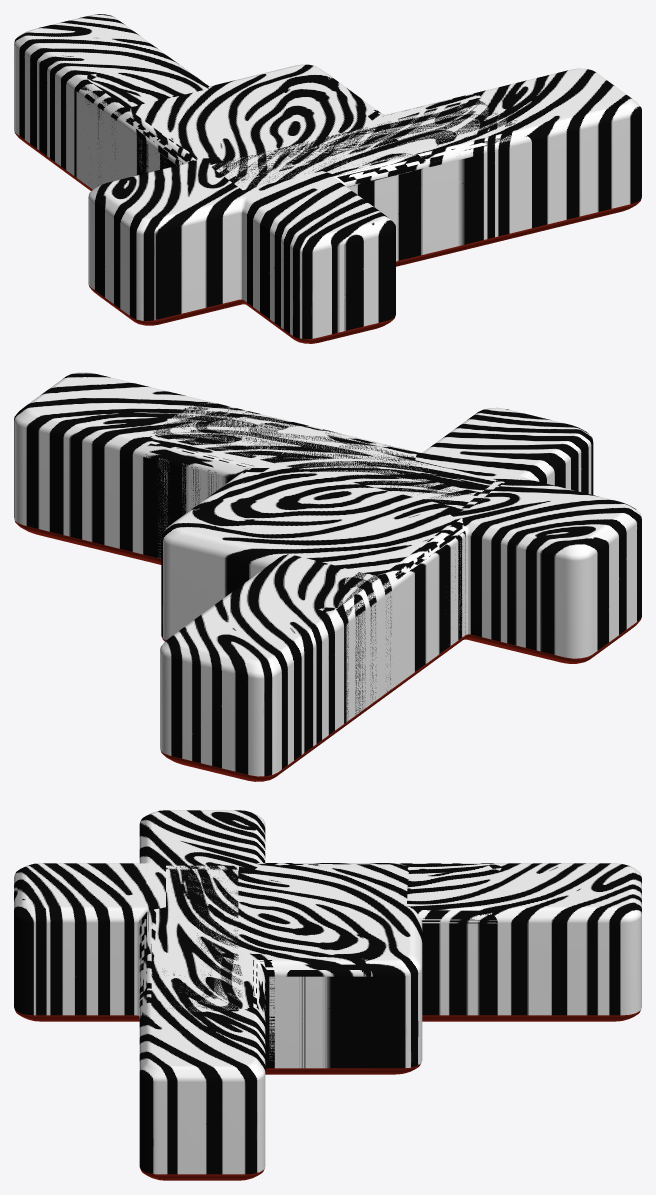
The model's file is Red.fbx.
The picture shows the model from 3 angles, top to bottom: view 1: azimuth 30°, elevation 25°; view 2: azimuth 150°, elevation 25°; view 3: azimuth 270°, elevation 25°; orthographic projection. The views are drawn at different scales.
Parts seen in each view (by area): view 1: Block_6, Block_4, Block_1, Block_9, Block_3, Block_5, Block_7, Block_8, Block_2; view 2: Block_6, Block_9, Block_4, Block_1, Block_3, Block_8, Block_7, Block_5; view 3: Block_4, Block_1, Block_6, Block_9, Block_7, Block_5, Block_3, Block_8.
Part boxes in pixels (bbox=[...]): Block_6: bbox=[88, 121, 427, 343]; Block_4: bbox=[209, 68, 641, 264]; Block_1: bbox=[122, 64, 398, 180]; Block_9: bbox=[14, 14, 208, 190]; Block_3: bbox=[209, 94, 531, 264]; Block_5: bbox=[227, 77, 528, 264]; Block_7: bbox=[74, 67, 425, 266]; Block_8: bbox=[118, 106, 382, 179]; Block_2: bbox=[344, 162, 430, 265]; Block_6: bbox=[323, 407, 641, 675]; Block_9: bbox=[160, 525, 463, 781]; Block_4: bbox=[14, 372, 504, 561]; Block_1: bbox=[161, 444, 476, 641]; Block_3: bbox=[139, 401, 502, 564]; Block_8: bbox=[240, 466, 465, 690]; Block_7: bbox=[252, 532, 465, 723]; Block_5: bbox=[139, 406, 500, 564]; Block_4: bbox=[139, 866, 265, 1180]; Block_1: bbox=[188, 864, 422, 1074]; Block_6: bbox=[14, 810, 370, 1021]; Block_9: bbox=[399, 863, 641, 1021]; Block_7: bbox=[141, 864, 501, 1021]; Block_5: bbox=[143, 866, 372, 1074]; Block_3: bbox=[139, 865, 265, 1019]; Block_8: bbox=[253, 863, 408, 1074].
Bounding box in the file's own units: 5 × 1 × 5.
2 materials, 2 textured.
